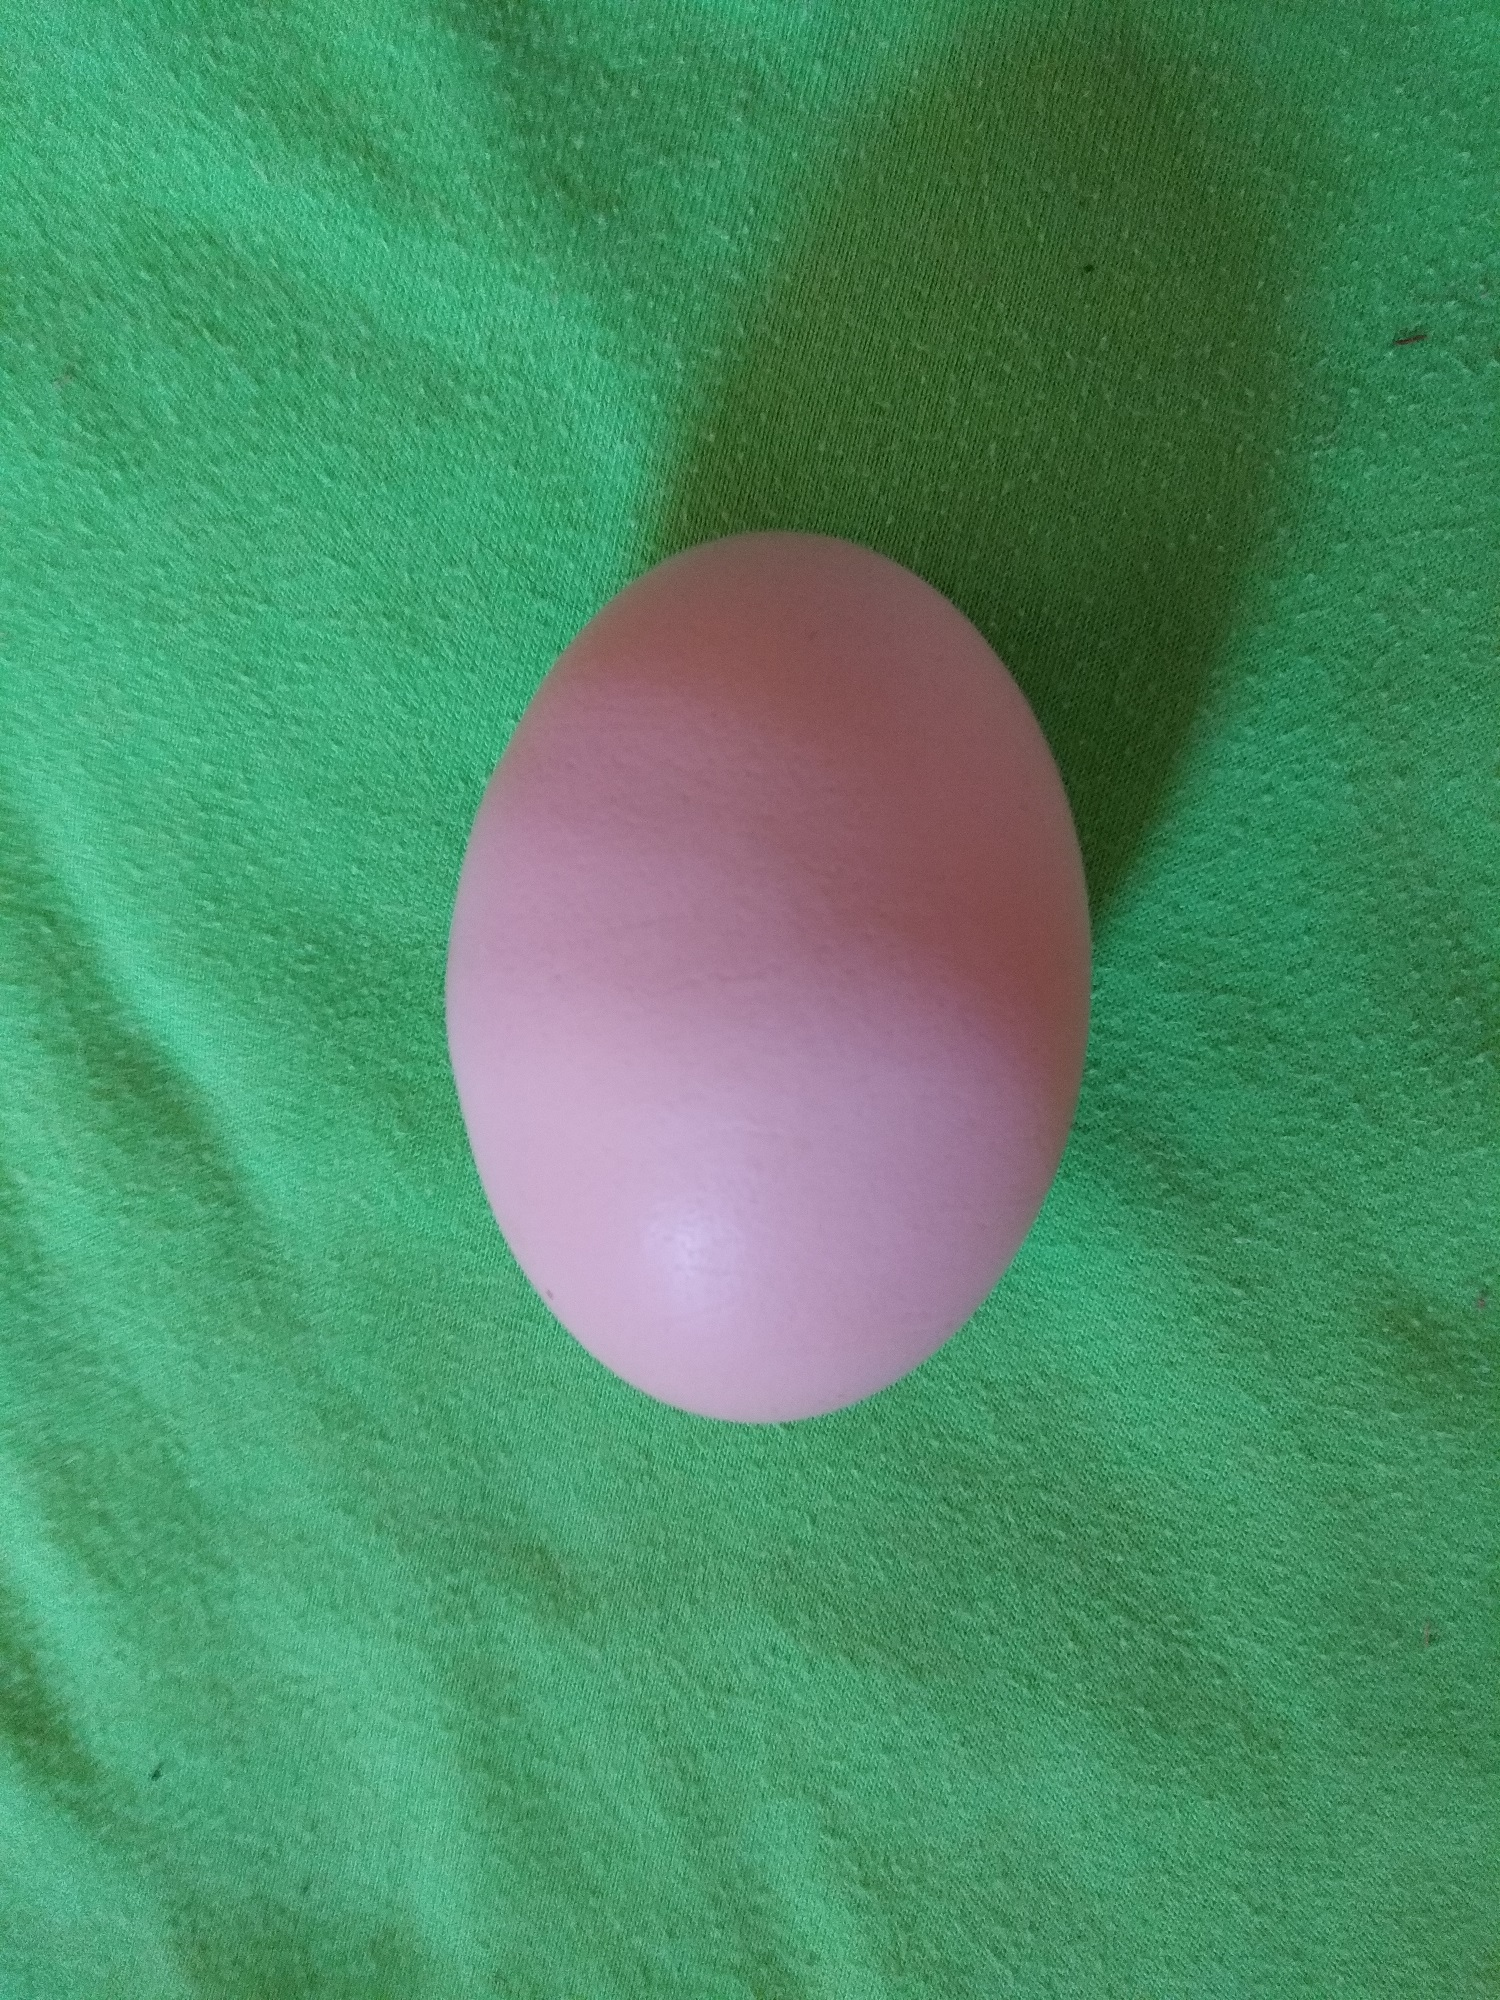Female: (433, 526, 1098, 1444)
